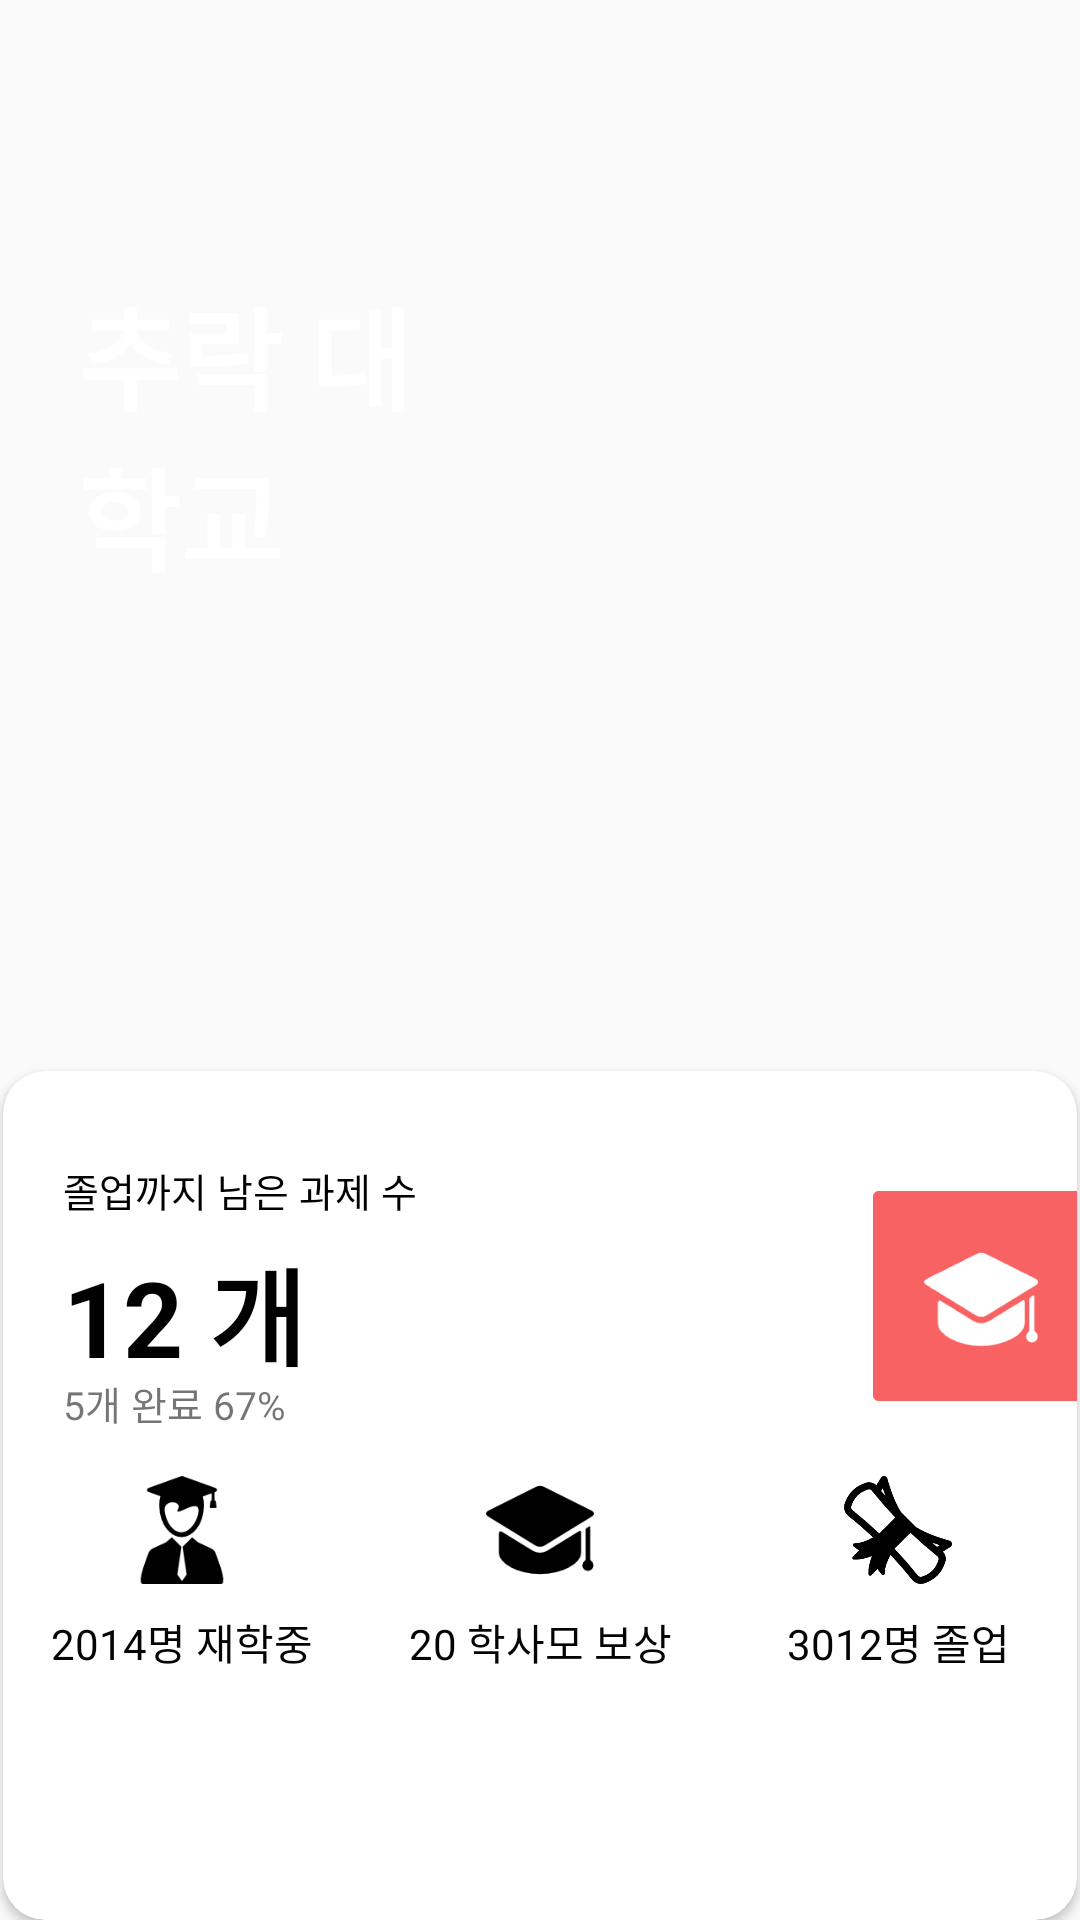

Icon click points for this 1080px×1920px phone screenshot, format (x,y):
college graduation: (540,1530)
graduate certificate: (898,1530)
